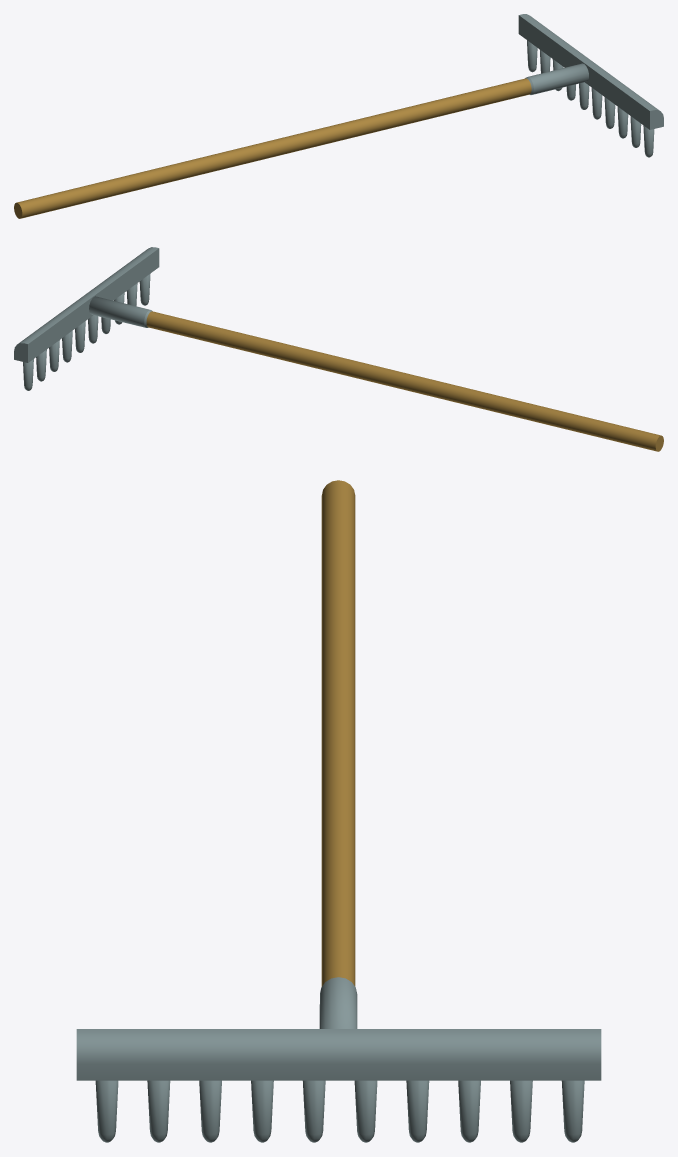
Rendered from Rake.fbx.
3 views of the same model, one above another, from view 1: azimuth 30°, elevation 25°; view 2: azimuth 150°, elevation 25°; view 3: azimuth 270°, elevation 25° (orthographic). The views are drawn at different scales.
Visible parts, largest first — view 1: Rake; view 2: Rake; view 3: Rake.
Boxes of the visible parts, <box> form: Rake: <box>14,14,663,218</box>; Rake: <box>14,247,663,451</box>; Rake: <box>76,480,601,1142</box>.
Bounding box in the file's own units: 2.5 × 0.2189 × 0.9784.
